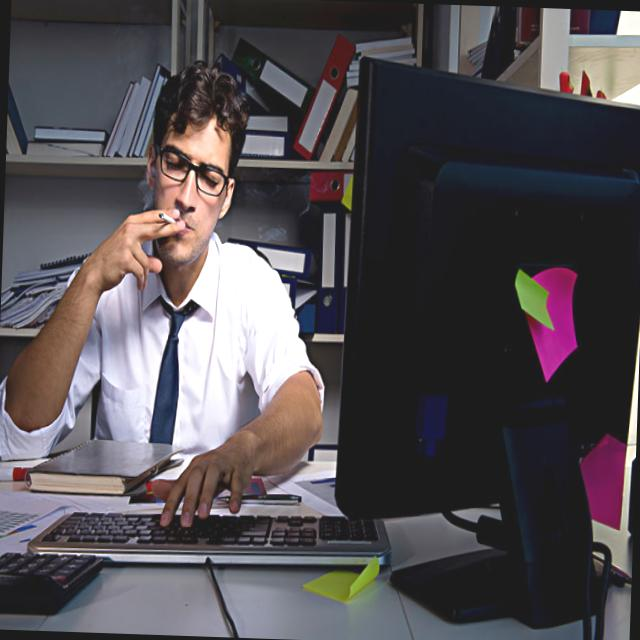smoke: (152, 212, 182, 231)
